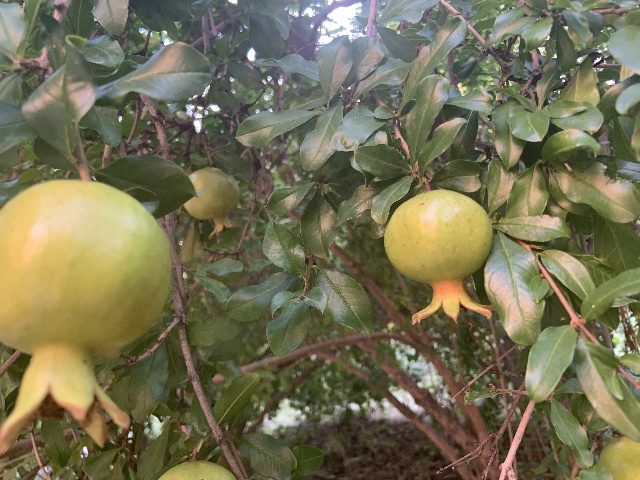mid-growth: (0, 178, 173, 456), (383, 187, 494, 326), (181, 167, 240, 238)
